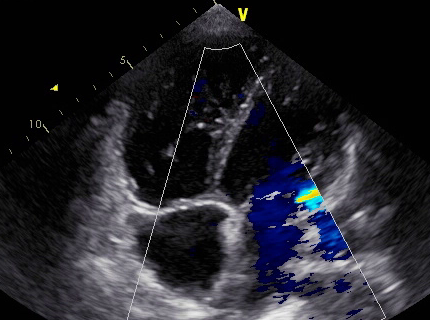MR: (240, 177, 323, 212)
